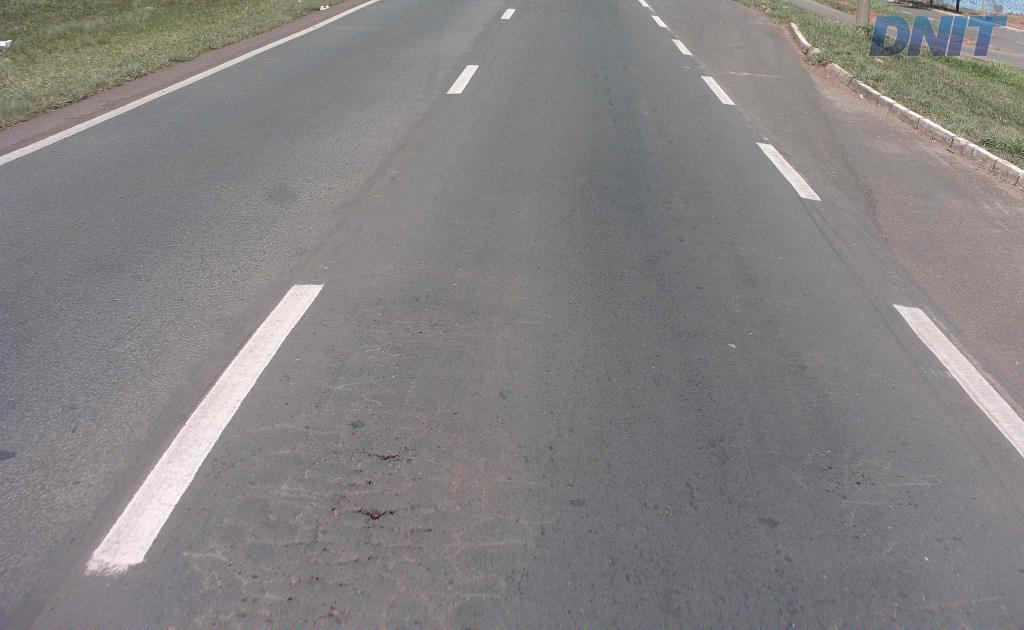crack: (345, 445, 413, 467)
